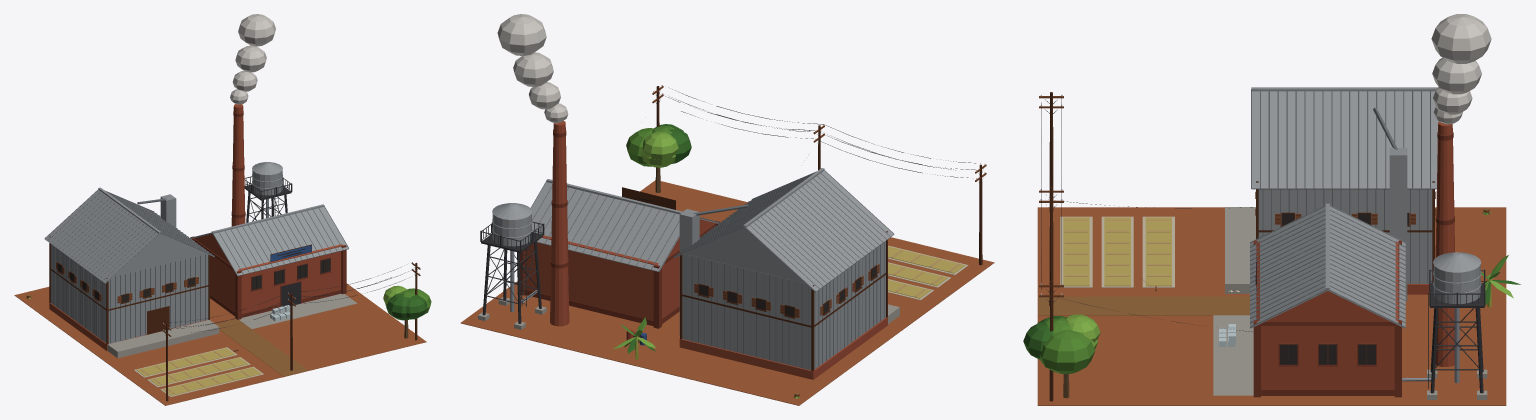
File: factory_4.glb
3 views of the same model, side by side, from view 1: azimuth 30°, elevation 25°; view 2: azimuth 150°, elevation 25°; view 3: azimuth 270°, elevation 25° (orthographic). The views are drawn at different scales.
Visible parts, largest first — view 1: body, windows; view 2: body, windows; view 3: body, windows.
Boxes of the visible parts, x1,y1,x2,y2 form: body: (14, 14, 431, 405); windows: (58, 258, 330, 302); body: (460, 14, 994, 405); windows: (699, 266, 876, 316); body: (1023, 14, 1520, 405); windows: (1280, 214, 1408, 364).
Bounding box in the file's own units: 33.24 × 27.61 × 33.92.
